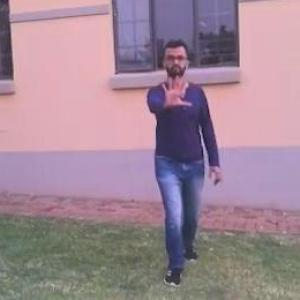follow_hand: (157, 69, 194, 111)
